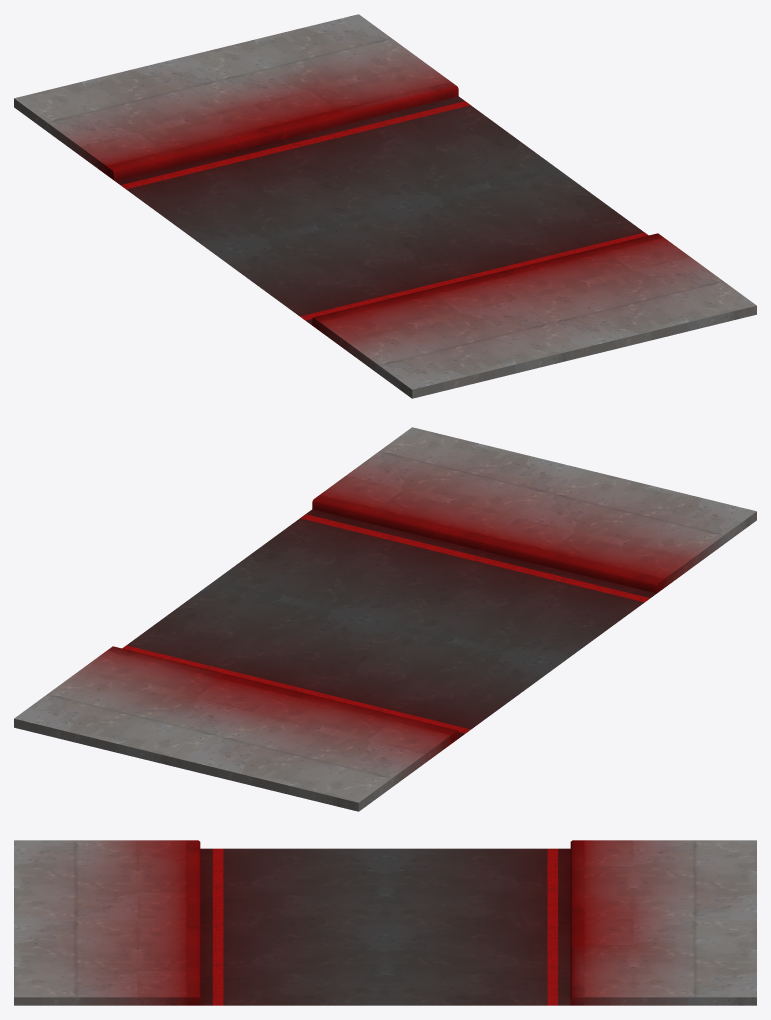
The model's file is Street_2Lane.gltf.
3 views of the same model, one above another, from view 1: azimuth 30°, elevation 25°; view 2: azimuth 150°, elevation 25°; view 3: azimuth 270°, elevation 25° (orthographic). The views are drawn at different scales.
Parts seen in each view (by area): view 1: Street_2Lane; view 2: Street_2Lane; view 3: Street_2Lane.
Part boxes in pixels (bbox=[...]): Street_2Lane: bbox=[14, 14, 756, 398]; Street_2Lane: bbox=[14, 427, 756, 811]; Street_2Lane: bbox=[14, 840, 756, 1005].
Bounding box in the file's own units: 6 × 0.15 × 12.
Materials: 3 (3 with a texture image).
